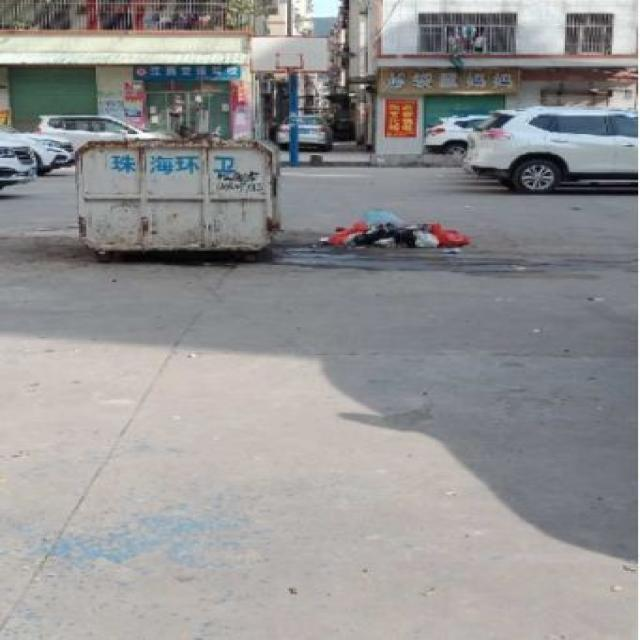garbage: (317, 208, 469, 246)
